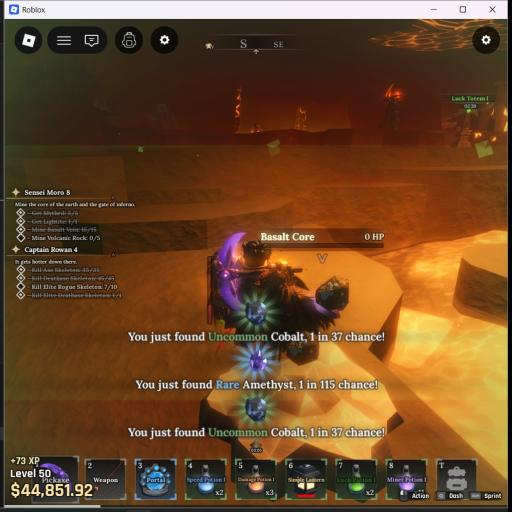player: (208, 234, 342, 340)
rock: (207, 335, 395, 460), (20, 56, 107, 109), (477, 82, 506, 131), (148, 104, 177, 128)
